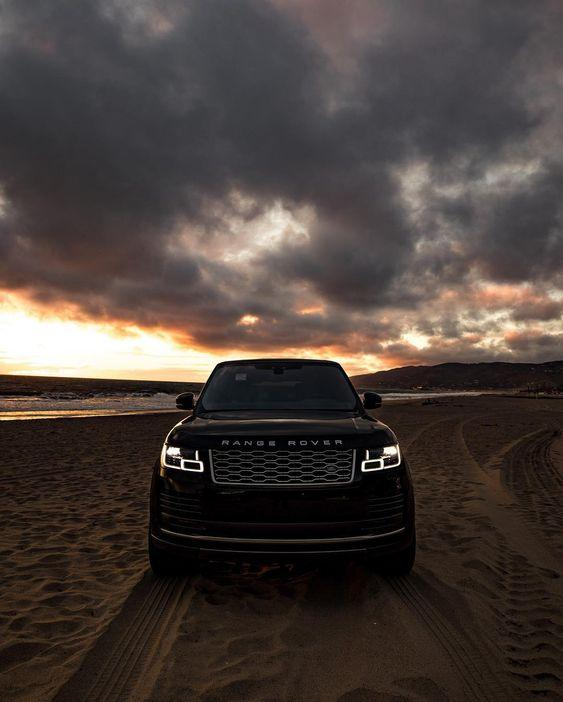range rover: (216, 433, 347, 452)
